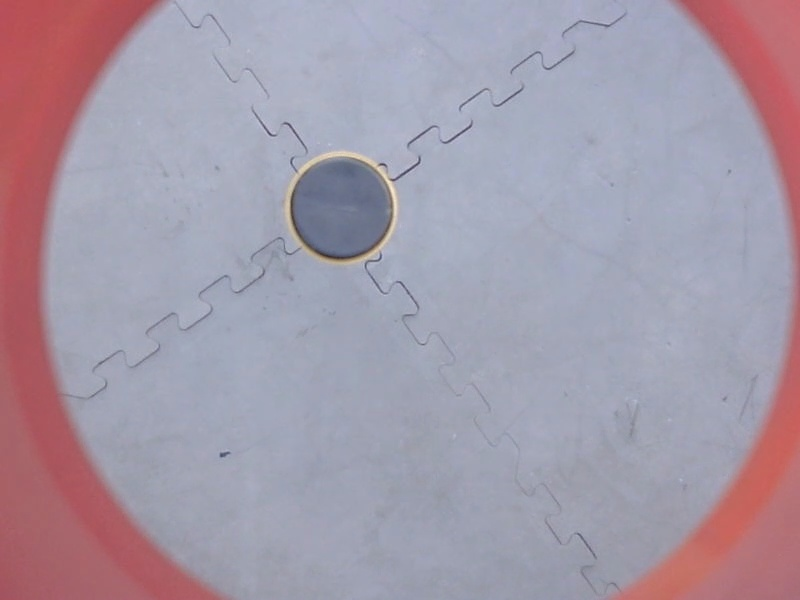tip: (279, 148, 404, 270)
